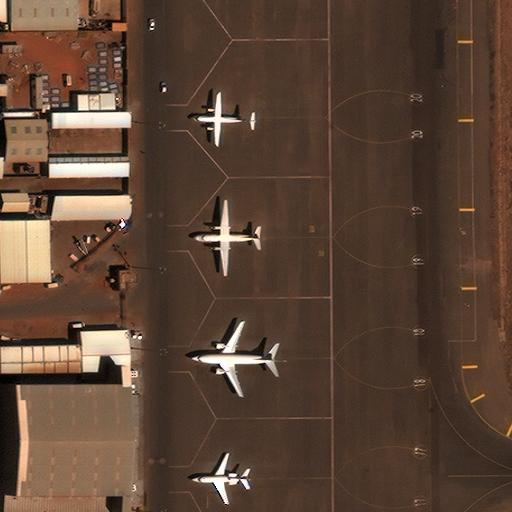Medium Civil Transport: (188, 320, 287, 397), (192, 199, 263, 277), (190, 95, 257, 143), (191, 453, 251, 505)
